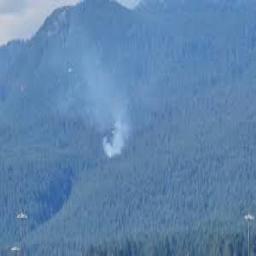Low smoke: (92, 16, 155, 161)
